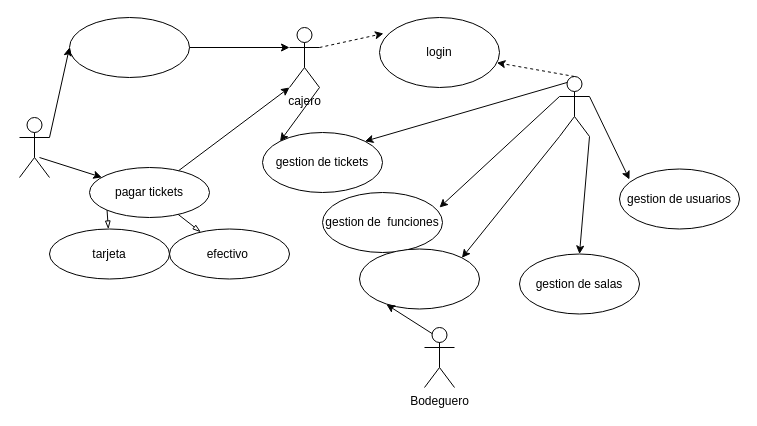
This 757x426 diagram has some shape labels left out. Here are the shapes that lost their labels. From the top down, the centre of each, then its label:
At point 129,47: "consultar funciones".
At point 574,106: "administrador".
At point 34,147: "cliente".
At point 419,278: "gestion de productos".
